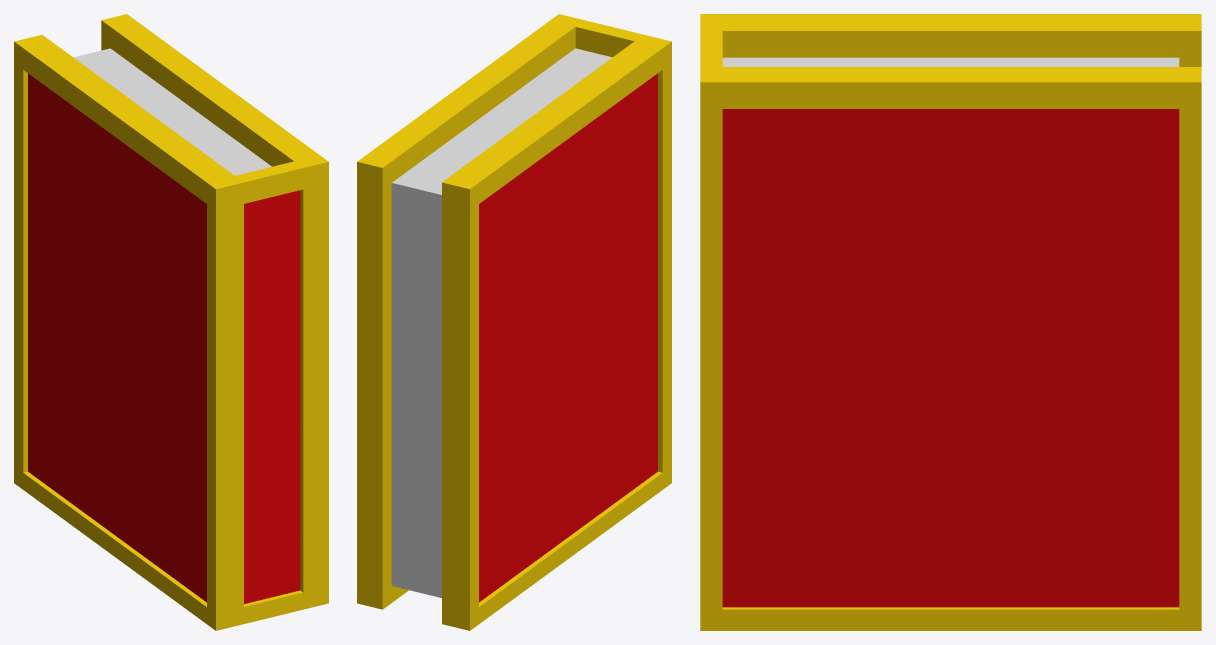
File: BookSpellPickUp.fbx
The picture shows the model from 3 angles, left to right: view 1: azimuth 30°, elevation 25°; view 2: azimuth 150°, elevation 25°; view 3: azimuth 270°, elevation 25°; orthographic projection. The views are drawn at different scales.
Visible parts, largest first — view 1: Cube; view 2: Cube; view 3: Cube.
Part boxes in pixels (<box>): Cube: <box>14,14,328,630</box>; Cube: <box>357,14,671,630</box>; Cube: <box>700,14,1201,630</box>.
Size of the model in its own units: 143 by 535 by 443.
